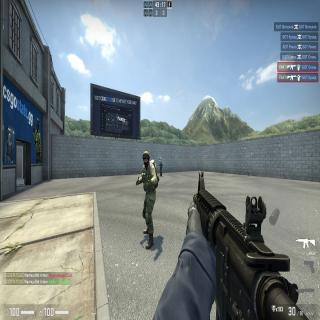CT-Body: (140, 151, 156, 251), (159, 160, 162, 176)
CT-Head: (142, 151, 150, 166)
